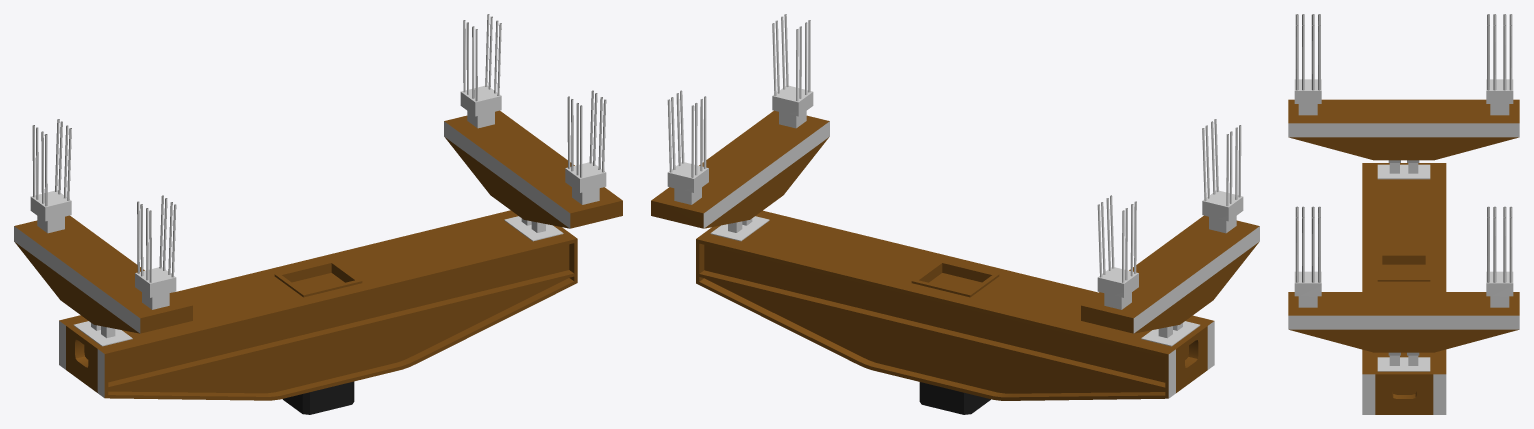
Rendered from SM_M_Props_Industrial_Crest_MechanicalStructure_06_ATLAS.fbx.
The picture shows the model from 3 angles, left to right: view 1: azimuth 30°, elevation 25°; view 2: azimuth 150°, elevation 25°; view 3: azimuth 270°, elevation 25°; orthographic projection. The views are drawn at different scales.
Parts seen in each view (by area): view 1: SM_M_Props_Industrial_Crest_MechanicalStructure_06_ATLAS; view 2: SM_M_Props_Industrial_Crest_MechanicalStructure_06_ATLAS; view 3: SM_M_Props_Industrial_Crest_MechanicalStructure_06_ATLAS.
Boxes of the visible parts, x1,y1,x2,y2 form: SM_M_Props_Industrial_Crest_MechanicalStructure_06_ATLAS: (14, 14, 622, 414); SM_M_Props_Industrial_Crest_MechanicalStructure_06_ATLAS: (651, 14, 1259, 414); SM_M_Props_Industrial_Crest_MechanicalStructure_06_ATLAS: (1288, 14, 1519, 414).
Bounding box in the file's own units: 1138 × 515 × 648.
